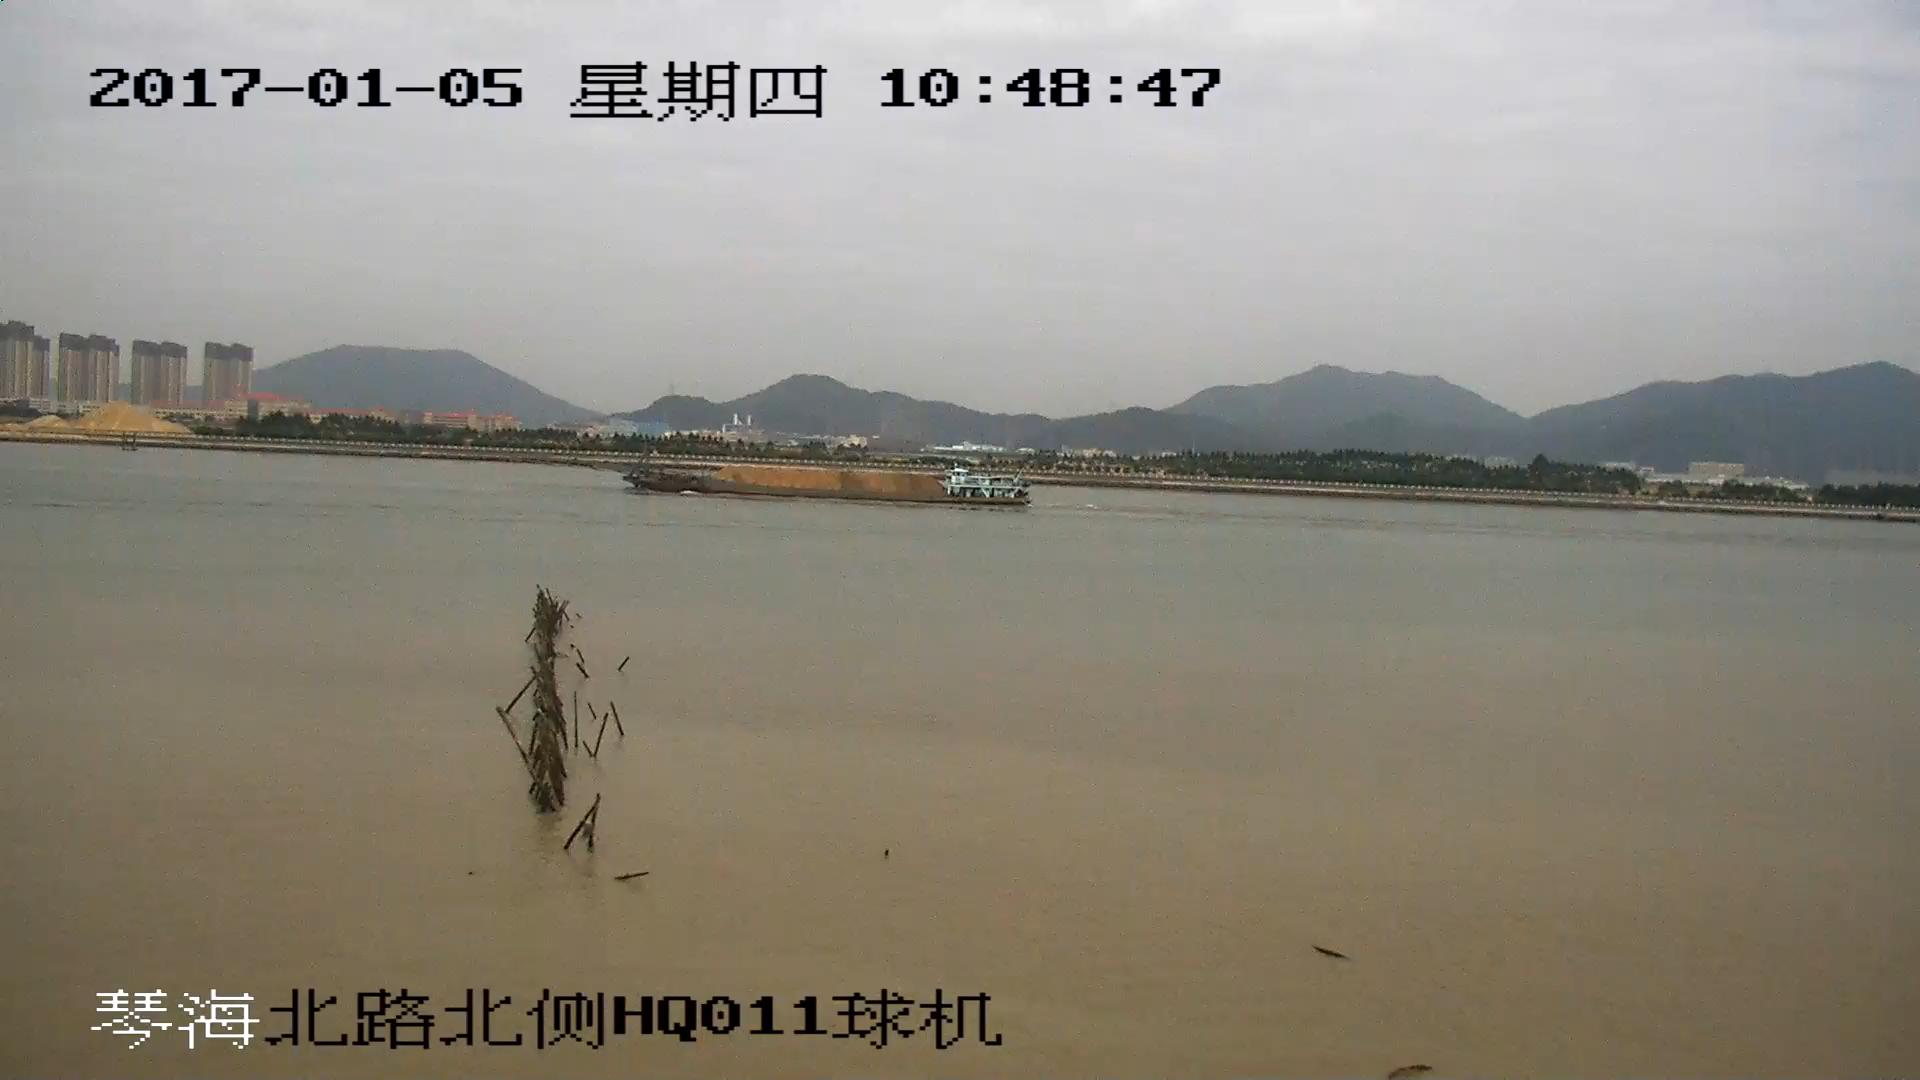ore carrier: (620, 446, 1032, 504)
